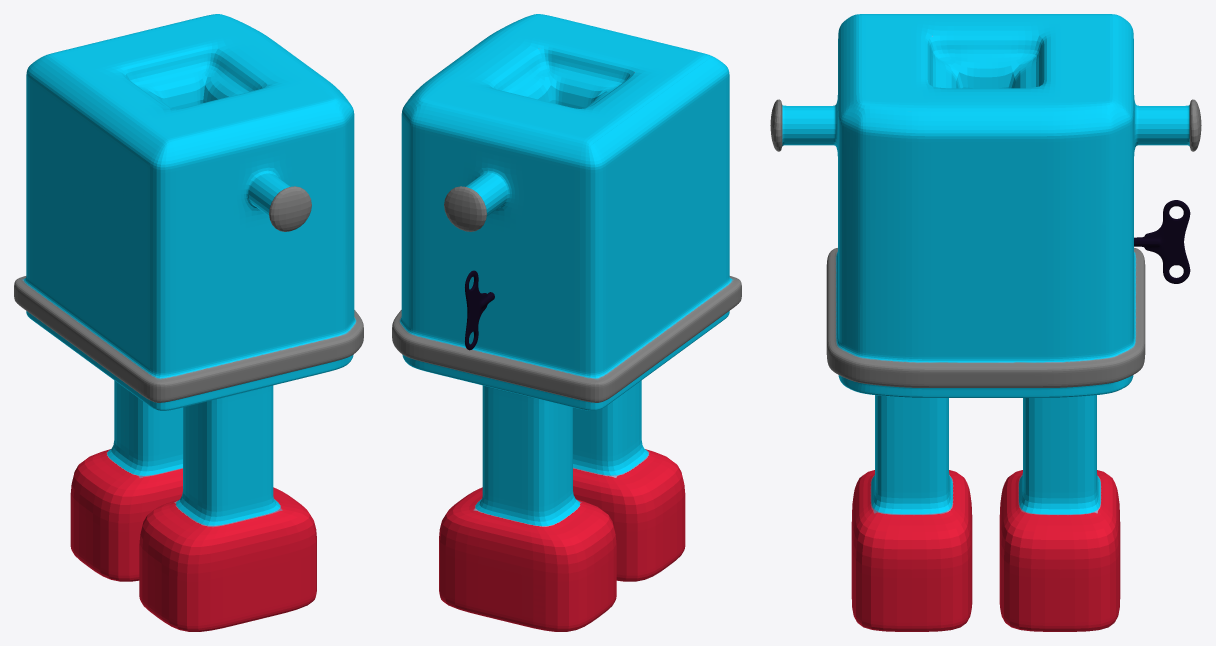
File: Robotoy_Body.fbx
The picture shows the model from 3 angles, left to right: view 1: azimuth 30°, elevation 25°; view 2: azimuth 150°, elevation 25°; view 3: azimuth 270°, elevation 25°; orthographic projection. The views are drawn at different scales.
Parts seen in each view (by area): view 1: Body; view 2: Body, Key; view 3: Body, Key.
Part boxes in pixels (box(x1,y1,x2,y2)): Body: box(14, 14, 363, 631); Body: box(392, 14, 741, 631); Key: box(465, 270, 494, 350); Body: box(770, 14, 1201, 631); Key: box(1134, 200, 1190, 283).
Bounding box in the file's own units: 256 × 522 × 379.
